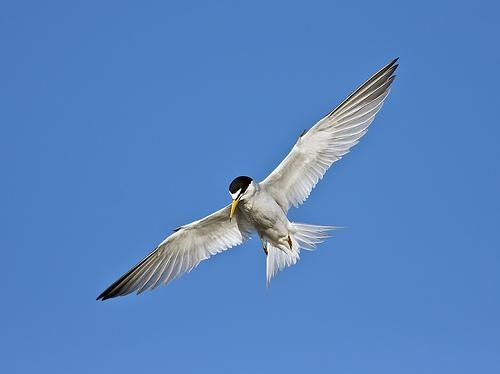bird: (94, 55, 401, 303)
